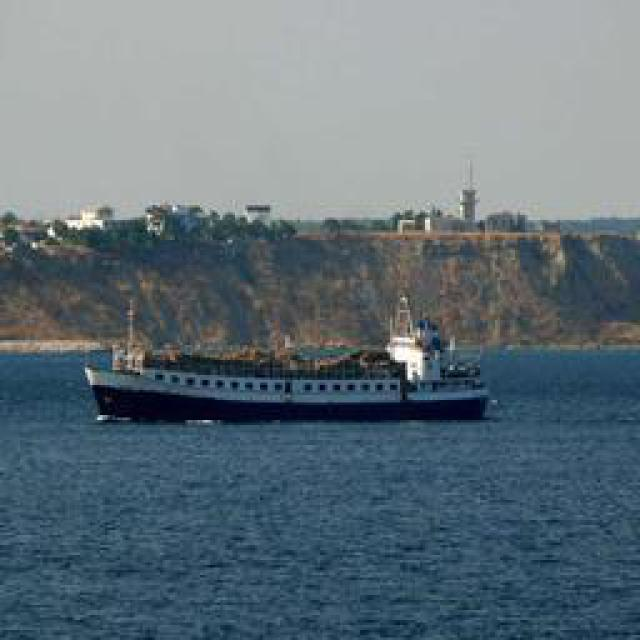Ship: (75, 309, 493, 422)
